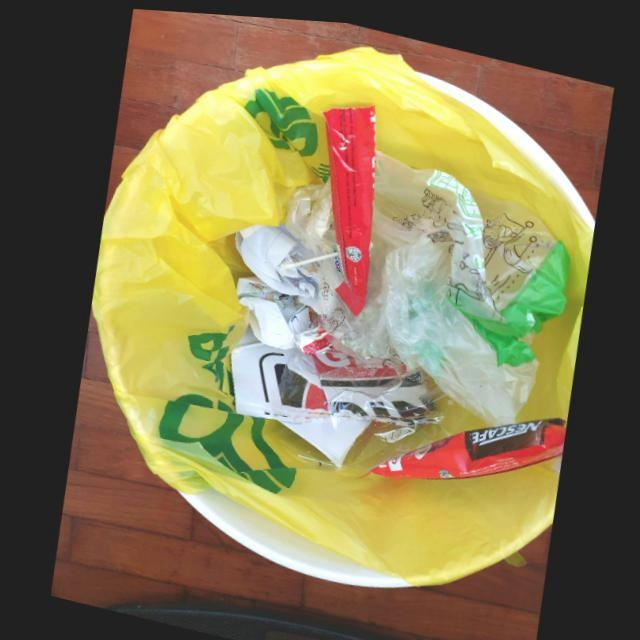food_wrapper: (322, 98, 375, 311)
paper: (233, 220, 314, 294), (234, 272, 302, 345)
plastic_bag: (370, 142, 572, 417), (281, 175, 391, 355)
plastic_sachet: (359, 409, 564, 473)
